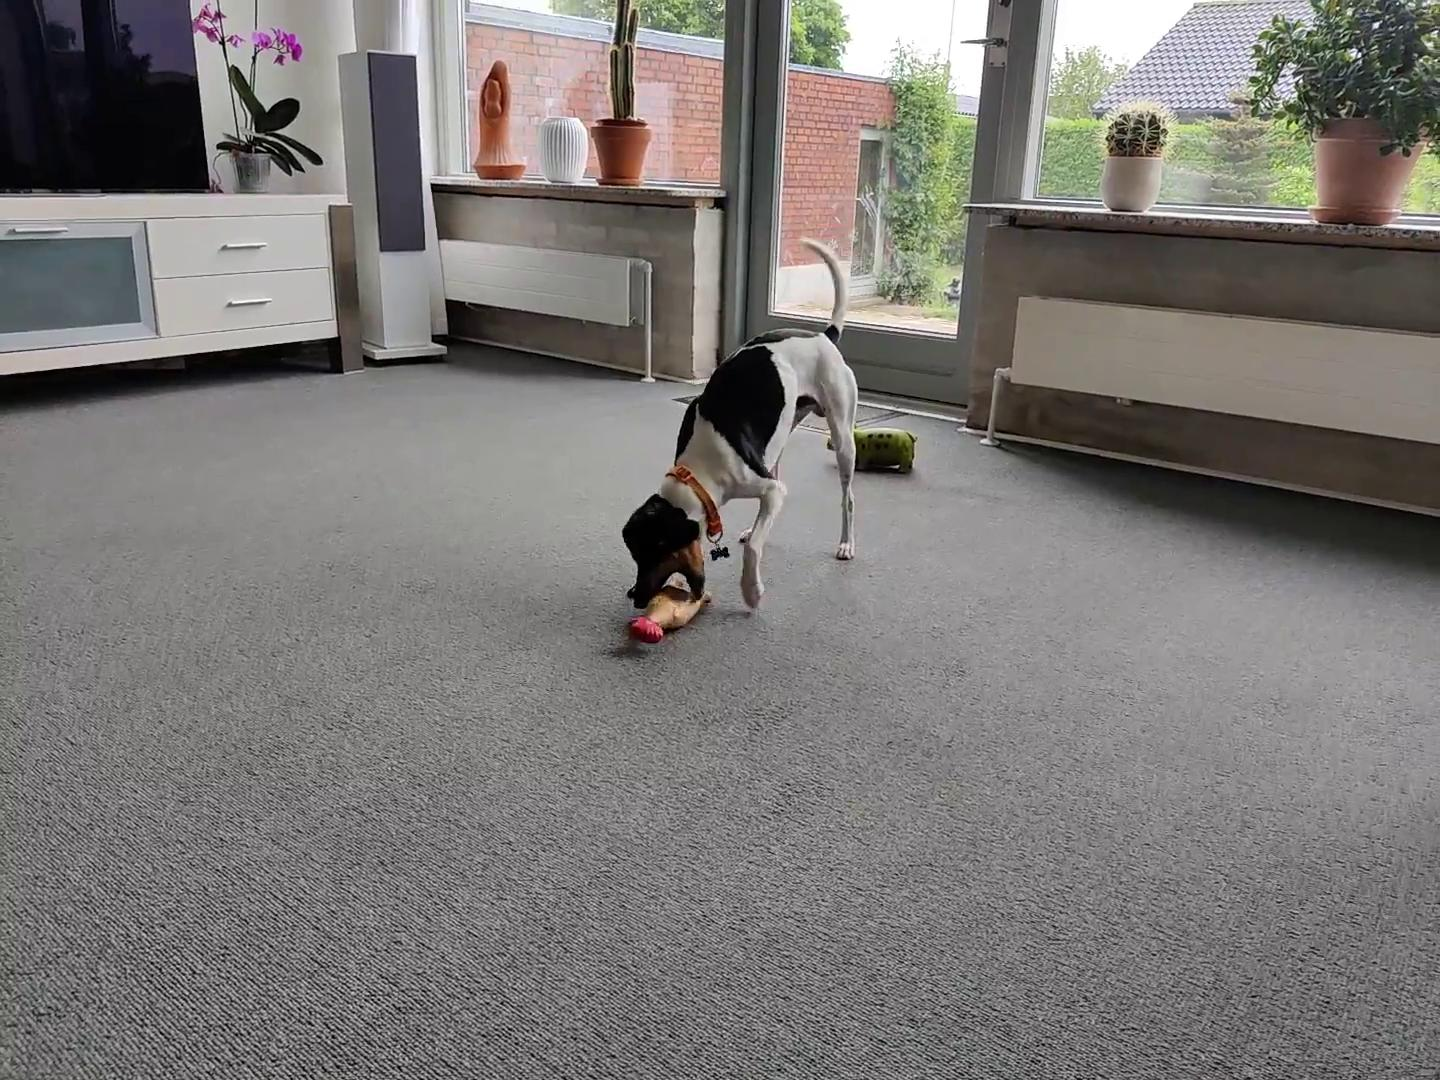Dog: (615, 234, 862, 613)
